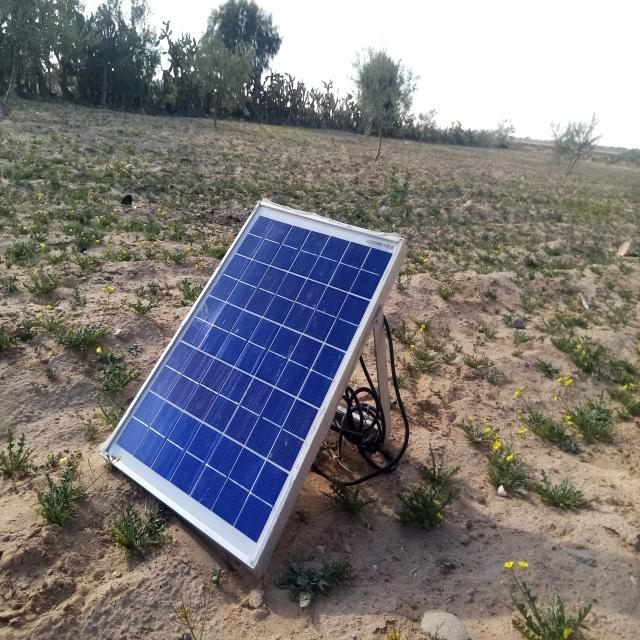no faulty: (103, 202, 403, 566)
